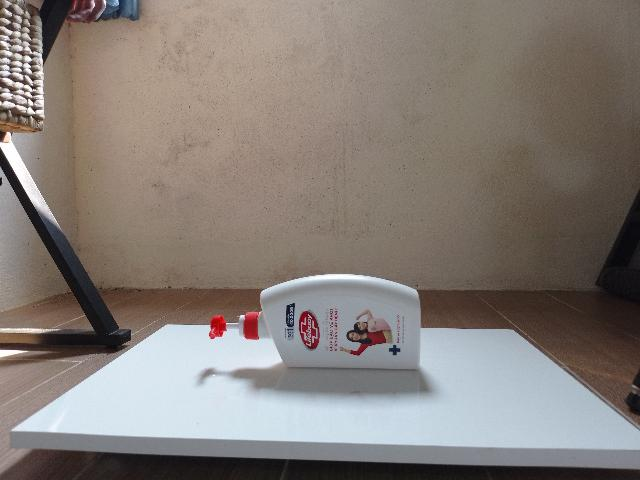life-buoy: (209, 274, 421, 371)
